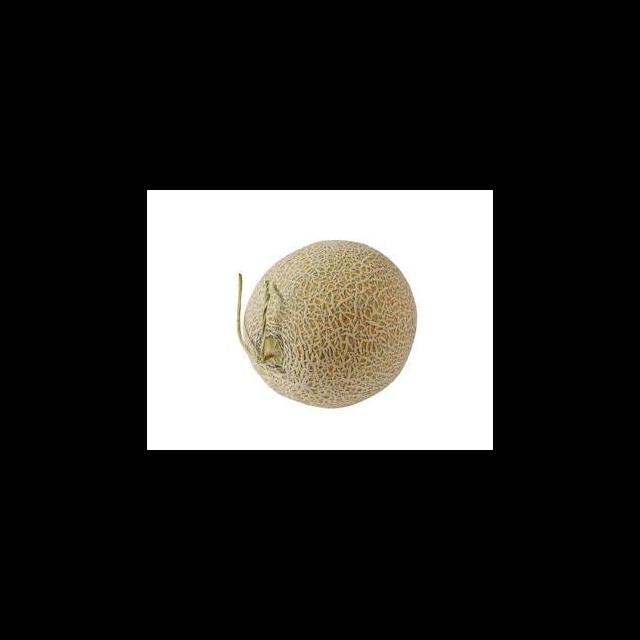Hami Melon: (236, 239, 417, 408)
